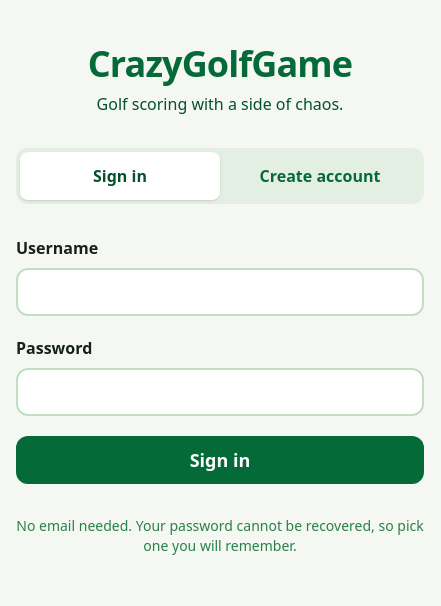
it: SignInScreen › explains a failure in plain words rather than an error code
This screenshot has width=441, height=606.
Type "jf" into the field labelled "Username".
click(220, 292); type("jf")  # box top-left (16, 268), bottom-right (424, 316)
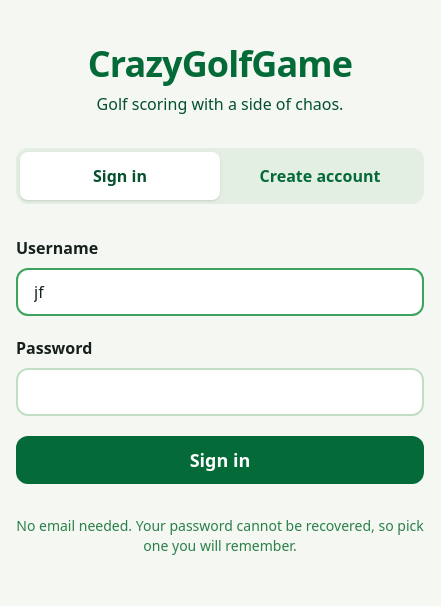
Type "wrongpass" into the password field labelled "Password".
click(220, 392); type("wrongpass")  # box top-left (16, 368), bottom-right (424, 416)
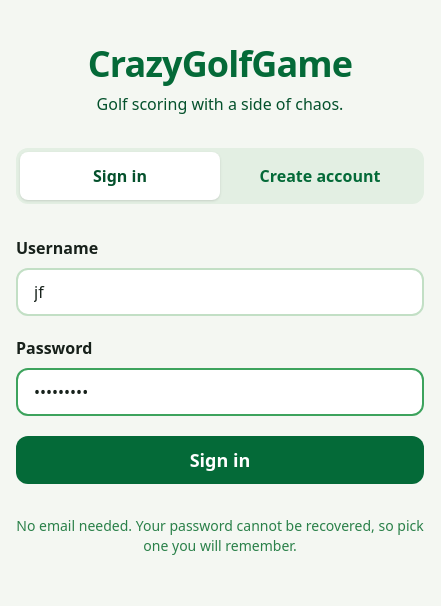
Click the button "Sign in".
click(220, 460)  # box top-left (16, 436), bottom-right (424, 484)
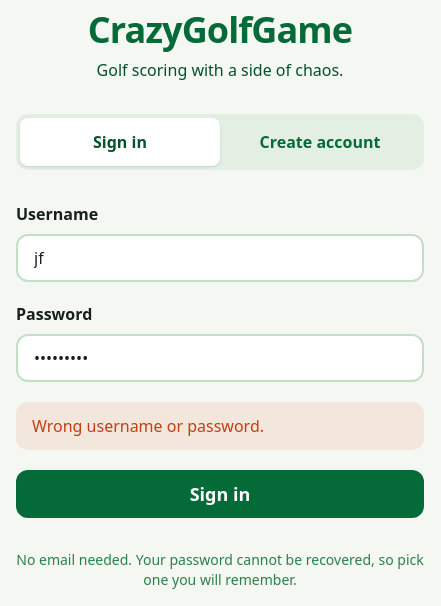
Expected: the message does not show "auth/", top-left (16, 402), bottom-right (424, 450)
Expected: the message reads "Wrong username or password.", top-left (32, 415), bottom-right (264, 437)
